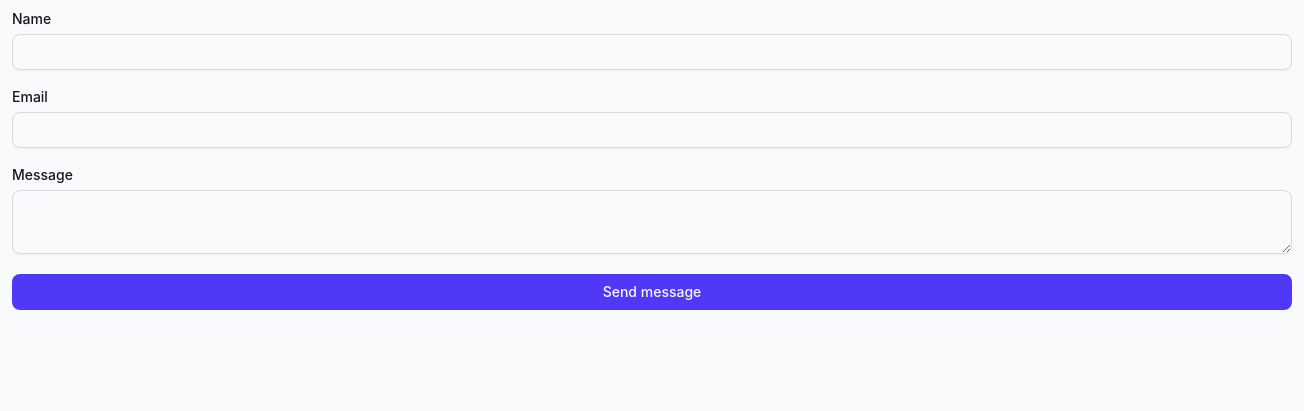
Test: ContactForm › explains what is missing and sends nothing when submitted empty
Click the button "Send message" at (652, 292), box [12,274,1292,310]
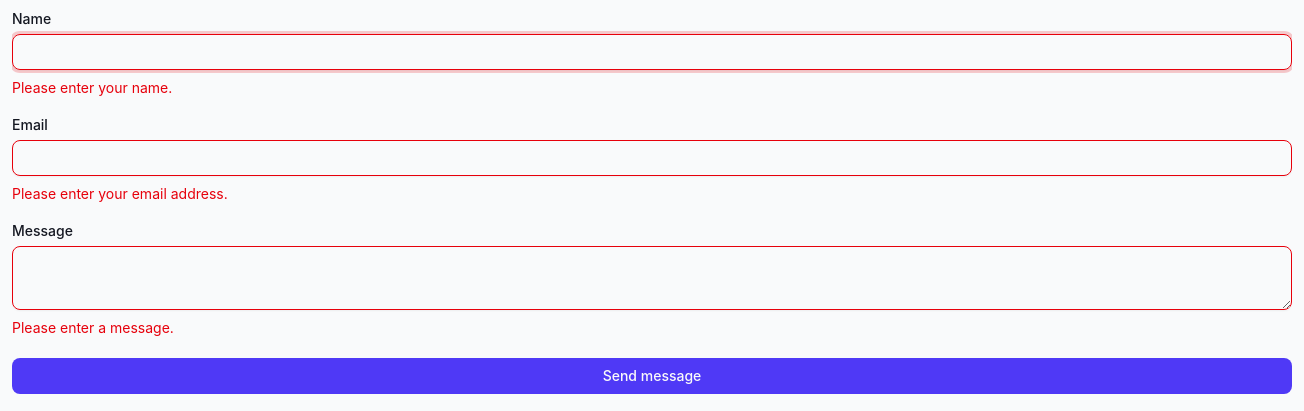
Expected: the text "Please enter your name." is shown, [12,79,172,96]
Expected: the text "Please enter your email address." is shown, [12,185,228,202]
Expected: the text "Please enter a message." is shown, [12,319,174,336]
